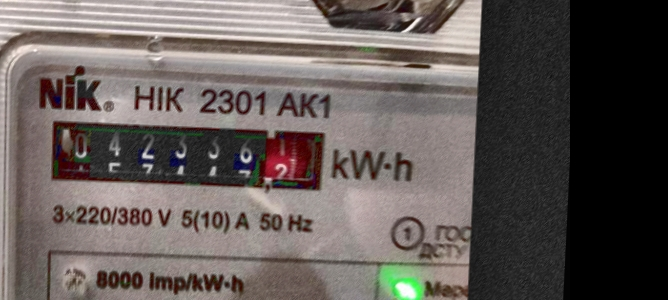0: (70, 131, 87, 160)
1: (274, 135, 287, 158)
2: (138, 131, 156, 160), (270, 161, 287, 180)
3: (202, 131, 220, 161), (170, 131, 187, 160)
4: (104, 128, 123, 158)
6: (236, 134, 255, 165)
screen: (37, 107, 336, 202)
